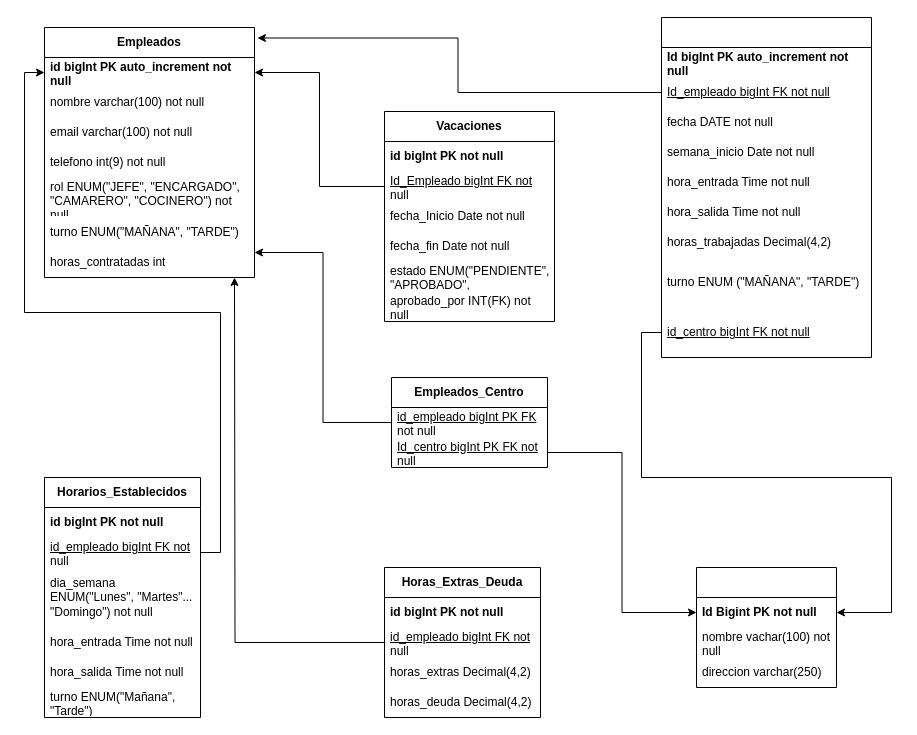
Some shapes in this 917 by 735 pixel diagram are drawn without their labels. The shapes that lost their labels are listed below. From the top down, each one's box as (x1, y1, x2, y2) in pixels, then its label:
(660, 16, 872, 358): Horarios
(696, 566, 836, 688): Centros_Trabajo
